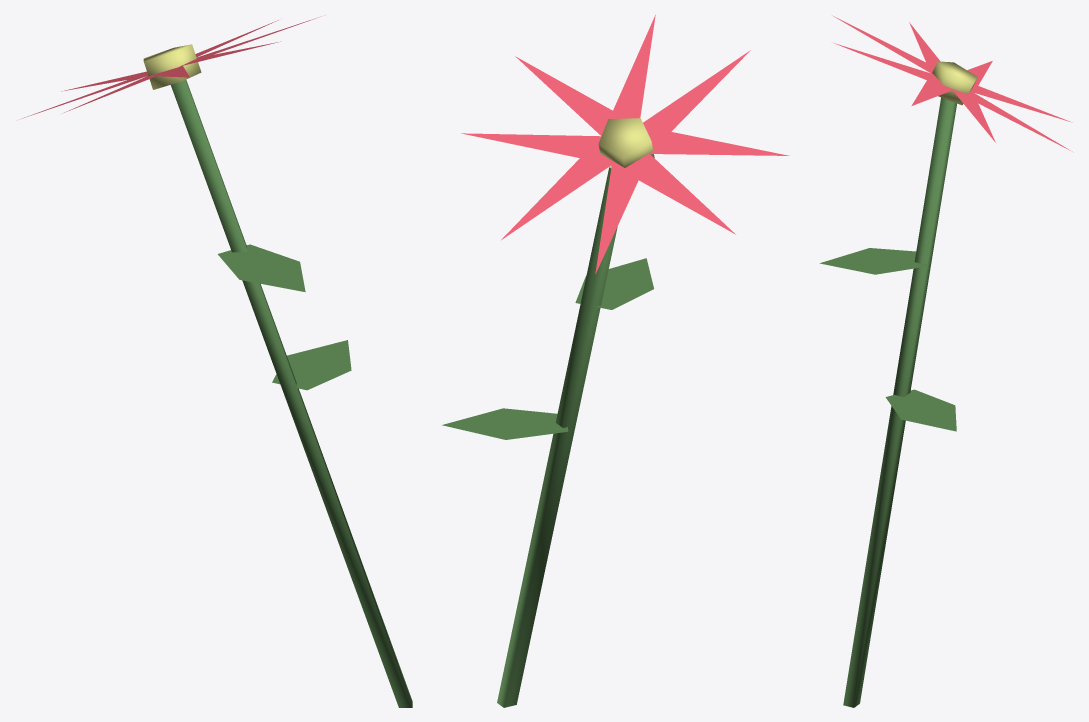
The model's file is flower.fbx.
The picture shows the model from 3 angles, left to right: view 1: azimuth 30°, elevation 25°; view 2: azimuth 150°, elevation 25°; view 3: azimuth 270°, elevation 25°; orthographic projection. The views are drawn at different scales.
Parts seen in each view (by area): view 1: pinkflower.001; view 2: pinkflower.001; view 3: pinkflower.001.
Boxes of the visible parts, bbox=[...] form: pinkflower.001: bbox=[20, 16, 412, 707]; pinkflower.001: bbox=[442, 15, 789, 707]; pinkflower.001: bbox=[820, 15, 1073, 707].
Bounding box in the file's own units: 207 × 433 × 166.
